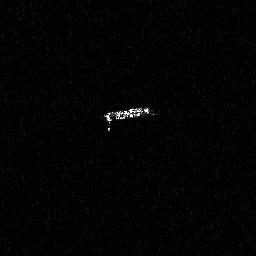ship: (102, 104, 159, 132)
